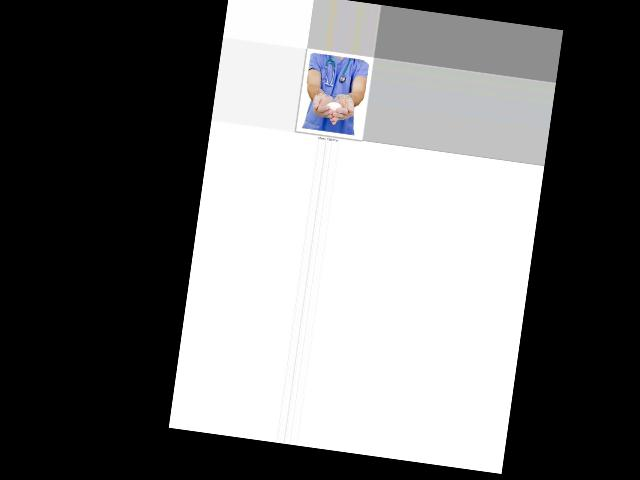egg: (325, 101, 341, 113)
